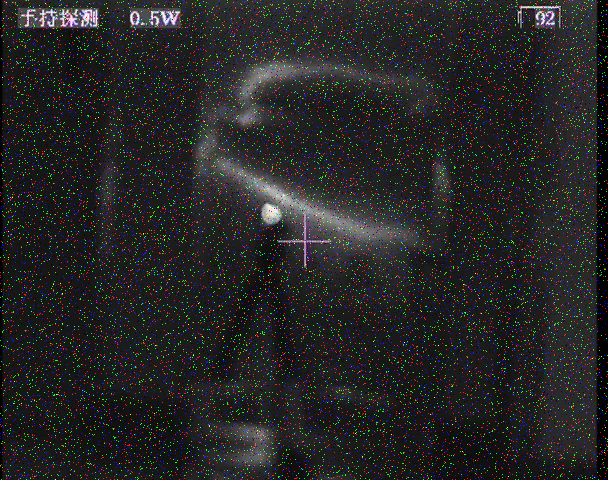my: (260, 199, 282, 225)
